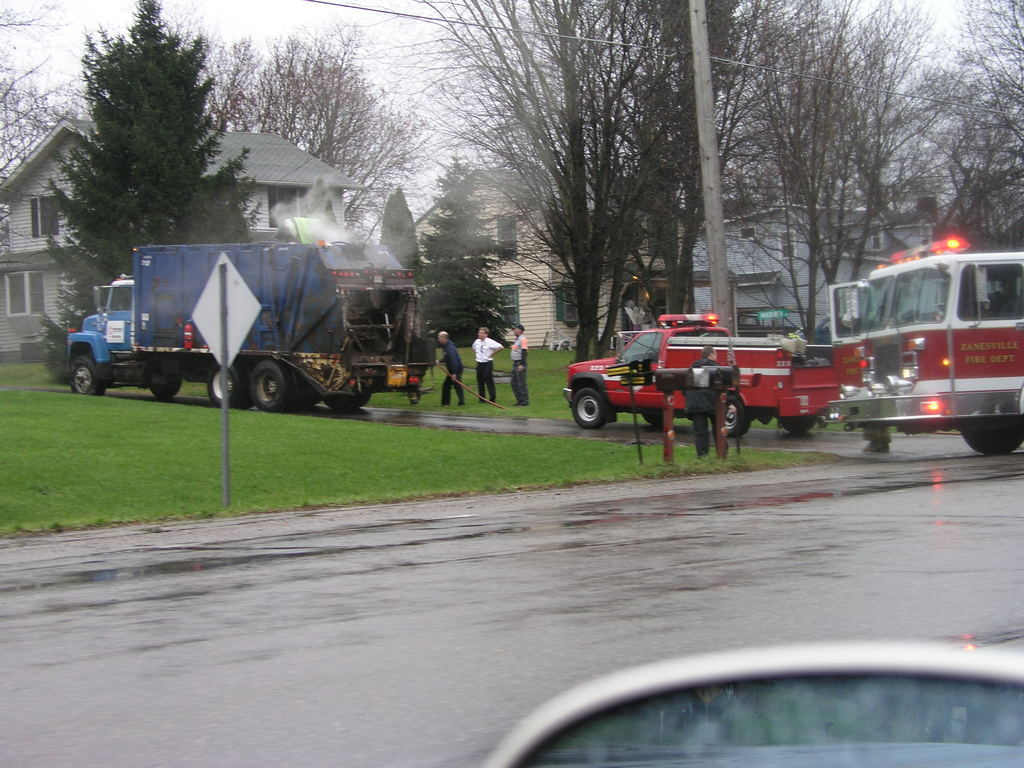car: (550, 299, 849, 452)
truck: (53, 209, 449, 422), (815, 225, 1024, 468)
